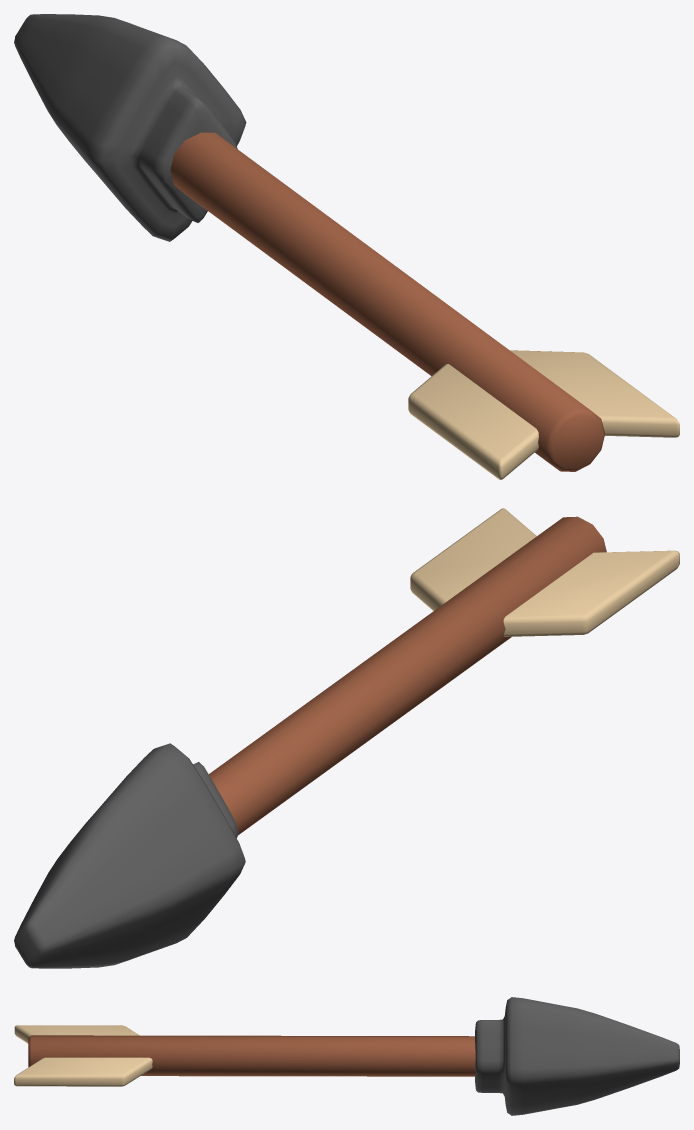
The model's file is arrow.fbx.
3 views of the same model, one above another, from view 1: azimuth 30°, elevation 25°; view 2: azimuth 150°, elevation 25°; view 3: azimuth 270°, elevation 25° (orthographic). The views are drawn at different scales.
Visible parts, largest first — view 1: arrow.001; view 2: arrow.001; view 3: arrow.001.
Boxes of the visible parts, box(x1,y1,x2,y2) form: arrow.001: box(14, 14, 679, 479); arrow.001: box(14, 508, 679, 968); arrow.001: box(14, 997, 679, 1115).
Bounding box in the file's own units: 21.22 × 22.63 × 115.
